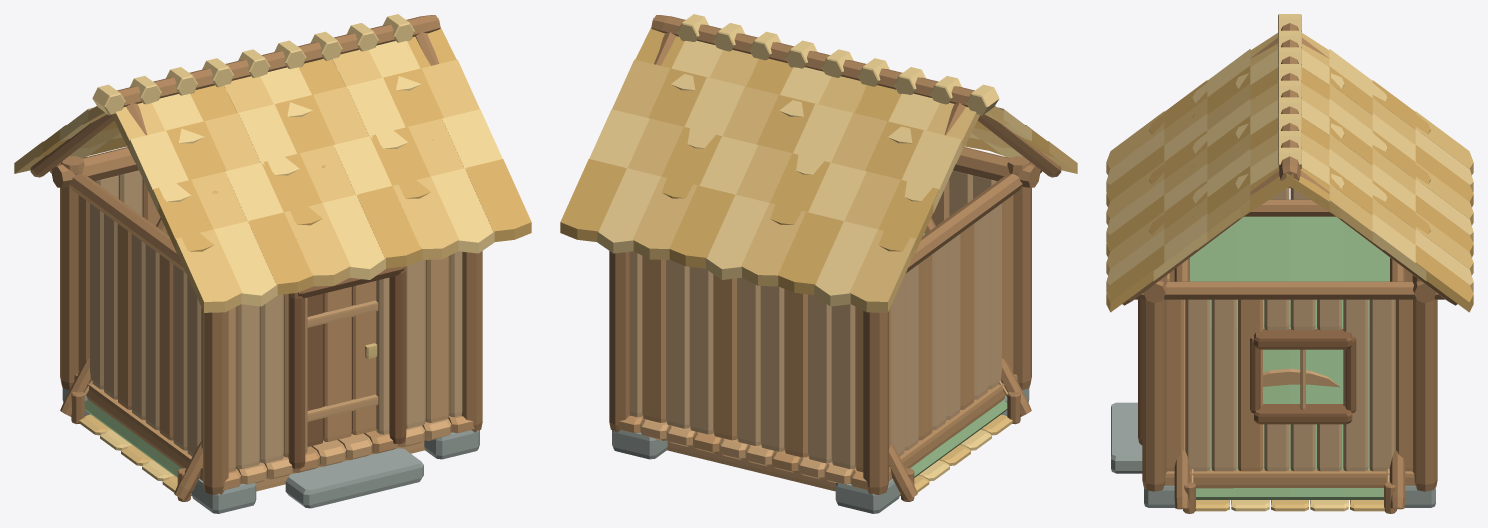
Rendered from construction.glb.
The picture shows the model from 3 angles, left to right: view 1: azimuth 30°, elevation 25°; view 2: azimuth 150°, elevation 25°; view 3: azimuth 270°, elevation 25°; orthographic projection. The views are drawn at different scales.
Parts seen in each view (by area): view 1: PRP_BLD_Export_building_hut_complete_10, PRP_BLD_Export_building_hut_complete_0, PRP_BLD_Export_building_hut_complete_12, PRP_BLD_Export_building_hut_complete_11, PRP_BLD_Export_building_hut_complete_6, PRP_BLD_Export_building_hut_complete_1, PRP_BLD_Export_building_hut_complete_2, PRP_BLD_Export_building_hut_complete_9, PRP_BLD_Export_building_hut_complete_3, PRP_BLD_Export_building_hut_complete_7, PRP_BLD_Export_building_hut_complete_8, PRP_BLD_Export_building_hut_complete_5 (+4 smaller); view 2: PRP_BLD_Export_building_hut_complete_0, PRP_BLD_Export_building_hut_complete_10, PRP_BLD_Export_building_hut_complete_12, PRP_BLD_Export_building_hut_complete_11, PRP_BLD_Export_building_hut_complete_6, PRP_BLD_Export_building_hut_complete_1, PRP_BLD_Export_building_hut_complete_7, PRP_BLD_Export_building_hut_complete_8, PRP_BLD_Export_building_hut_complete_9, PRP_BLD_Export_building_garden_complete_1, PRP_BLD_Export_building_tent_complete_5, PRP_BLD_Export_building_tent_complete_0 (+2 smaller); view 3: PRP_BLD_Export_building_hut_complete_10, PRP_BLD_Export_building_hut_complete_0, PRP_BLD_Export_building_hut_complete_12, PRP_BLD_Export_building_tent_complete_0, PRP_BLD_Export_building_hut_complete_11, PRP_BLD_Export_building_hut_complete_6, PRP_BLD_Export_building_hut_complete_1, PRP_BLD_Export_building_tent_complete_5, PRP_BLD_Export_building_hut_complete_5, PRP_BLD_Export_building_hut_complete_7, PRP_BLD_Export_building_hut_complete_9, PRP_BLD_Export_building_hut_complete_3 (+4 smaller).
Part boxes in pixels (bbox=[...]): PRP_BLD_Export_building_hut_complete_10: bbox=[60, 14, 502, 306]; PRP_BLD_Export_building_hut_complete_0: bbox=[90, 170, 462, 469]; PRP_BLD_Export_building_hut_complete_12: bbox=[37, 18, 531, 294]; PRP_BLD_Export_building_hut_complete_11: bbox=[14, 50, 479, 312]; PRP_BLD_Export_building_hut_complete_6: bbox=[30, 15, 482, 494]; PRP_BLD_Export_building_hut_complete_1: bbox=[78, 179, 376, 448]; PRP_BLD_Export_building_hut_complete_2: bbox=[228, 256, 449, 472]; PRP_BLD_Export_building_hut_complete_9: bbox=[62, 388, 479, 513]; PRP_BLD_Export_building_hut_complete_3: bbox=[288, 266, 406, 468]; PRP_BLD_Export_building_hut_complete_7: bbox=[74, 374, 474, 490]; PRP_BLD_Export_building_hut_complete_8: bbox=[236, 419, 451, 484]; PRP_BLD_Export_building_hut_complete_5: bbox=[307, 294, 323, 446]; PRP_BLD_Export_building_hut_complete_0: bbox=[629, 170, 1001, 469]; PRP_BLD_Export_building_hut_complete_10: bbox=[589, 14, 1031, 306]; PRP_BLD_Export_building_hut_complete_12: bbox=[560, 18, 1054, 294]; PRP_BLD_Export_building_hut_complete_11: bbox=[612, 50, 1077, 312]; PRP_BLD_Export_building_hut_complete_6: bbox=[609, 15, 1061, 494]; PRP_BLD_Export_building_hut_complete_1: bbox=[642, 195, 1013, 472]; PRP_BLD_Export_building_hut_complete_7: bbox=[617, 374, 1017, 490]; PRP_BLD_Export_building_hut_complete_8: bbox=[640, 419, 855, 484]; PRP_BLD_Export_building_hut_complete_9: bbox=[612, 388, 1029, 513]; PRP_BLD_Export_building_garden_complete_1: bbox=[667, 441, 835, 491]; PRP_BLD_Export_building_tent_complete_5: bbox=[889, 217, 1031, 500]; PRP_BLD_Export_building_tent_complete_0: bbox=[910, 233, 1007, 477]; PRP_BLD_Export_building_hut_complete_10: bbox=[1106, 14, 1473, 292]; PRP_BLD_Export_building_hut_complete_0: bbox=[1185, 188, 1394, 471]; PRP_BLD_Export_building_hut_complete_12: bbox=[1106, 66, 1473, 312]; PRP_BLD_Export_building_tent_complete_0: bbox=[1190, 216, 1389, 499]; PRP_BLD_Export_building_hut_complete_11: bbox=[1106, 33, 1473, 275]; PRP_BLD_Export_building_hut_complete_6: bbox=[1122, 23, 1457, 491]; PRP_BLD_Export_building_hut_complete_1: bbox=[1167, 269, 1412, 471]; PRP_BLD_Export_building_tent_complete_5: bbox=[1174, 199, 1405, 509]; PRP_BLD_Export_building_hut_complete_5: bbox=[1254, 329, 1352, 424]; PRP_BLD_Export_building_hut_complete_7: bbox=[1164, 469, 1415, 488]; PRP_BLD_Export_building_hut_complete_9: bbox=[1111, 402, 1435, 507]; PRP_BLD_Export_building_hut_complete_3: bbox=[1138, 299, 1356, 445].
Size of the model in its own units: 3.09 by 3.43 by 3.07.
